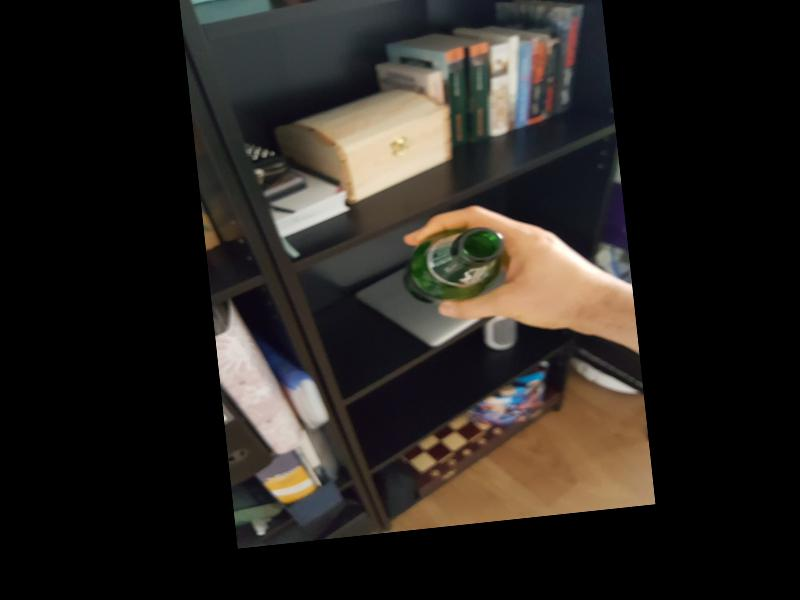Beer: (399, 226, 510, 310)
